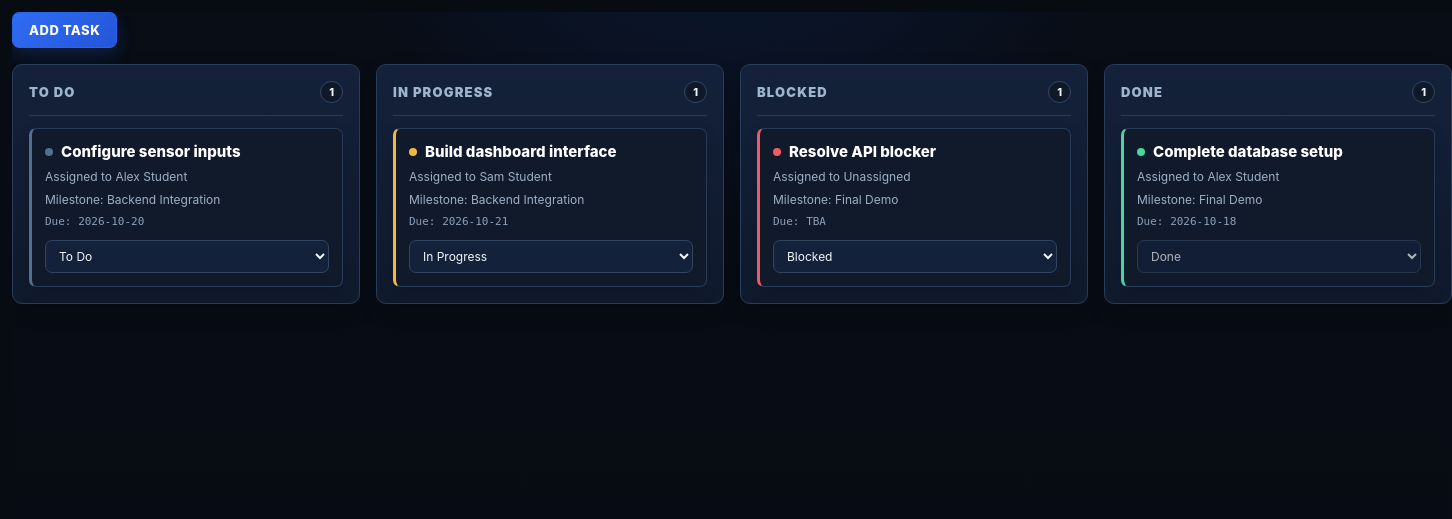
TaskBoard Integration Tests › creates a task using a real milestone and project member
Expected: the text "Configure sensor inputs" is shown, [61, 142, 240, 161]
Click the button "ADD TASK" at (65, 30), box [12, 12, 117, 48]
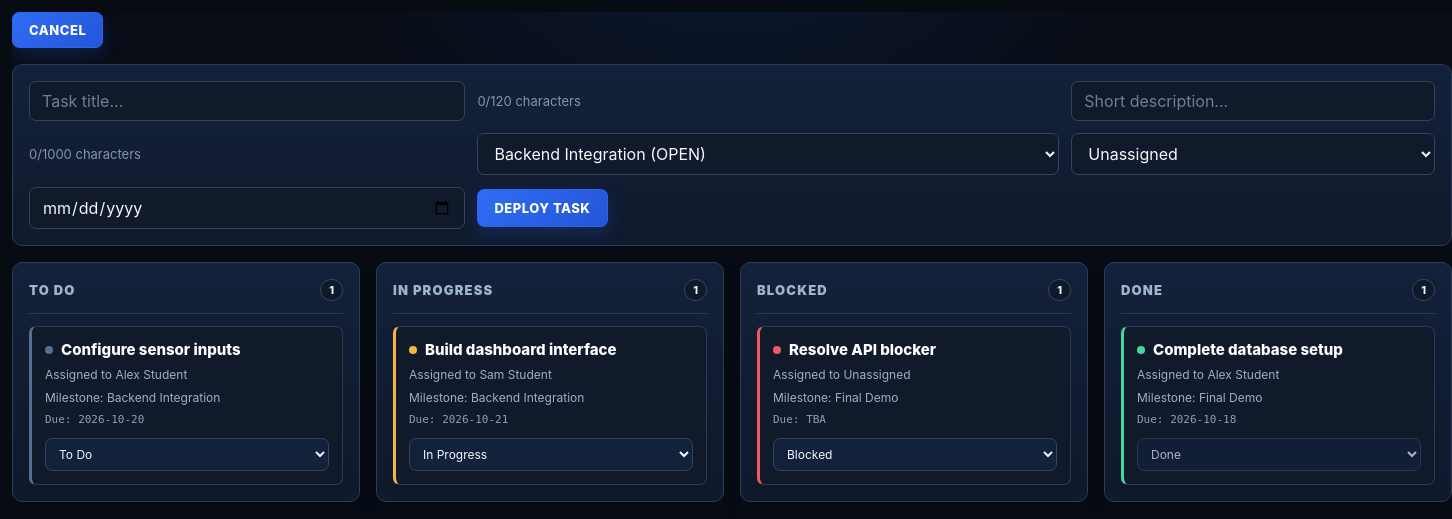
Type "Test new task" into the field labelled "Task title" at (247, 101), box [29, 81, 465, 121]
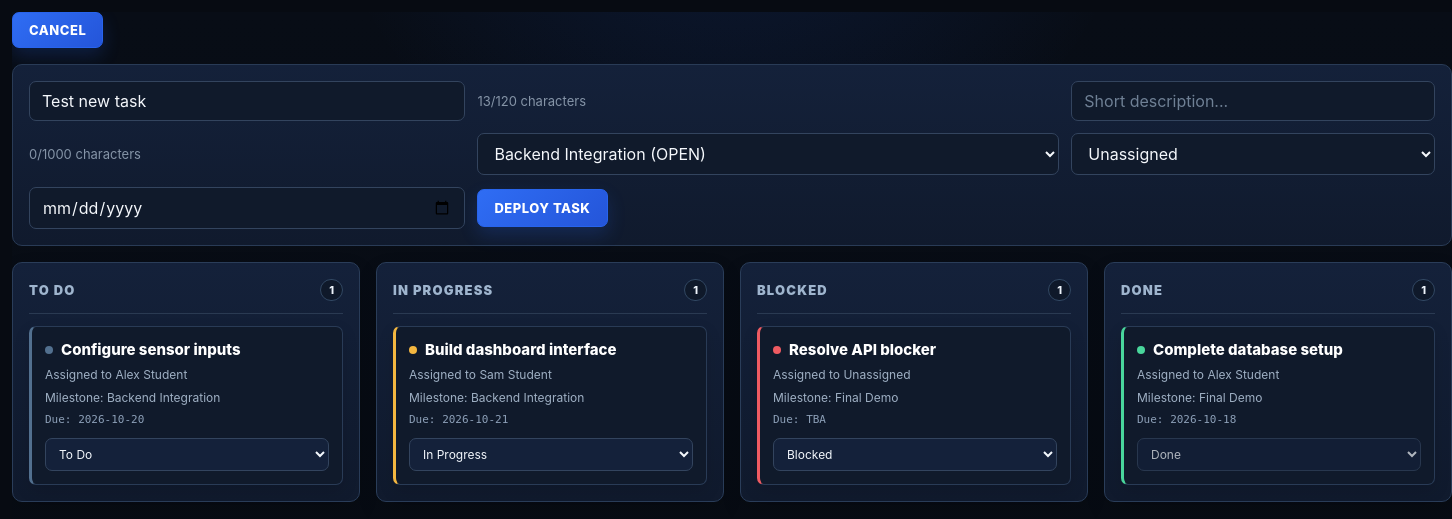
Type "Test task description" into the field named "Task description" at (1253, 101), box [1071, 81, 1435, 121]
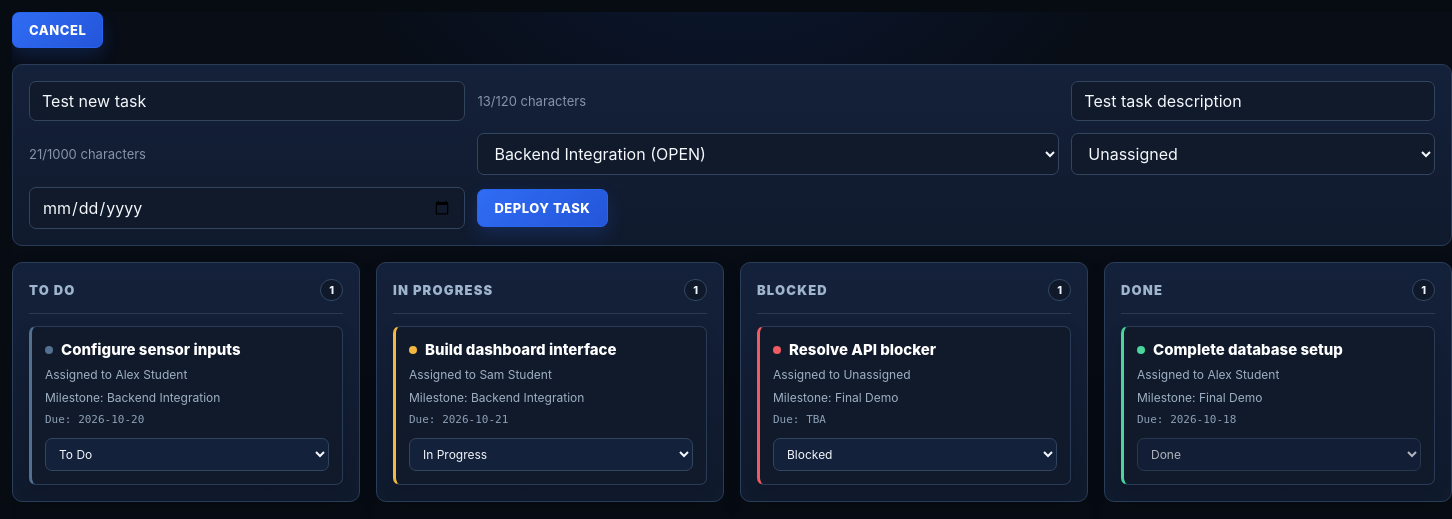
Select "Sam Student (MEMBER)" in the dropdown named "Task assignee" at (1253, 154), box [1071, 133, 1435, 175]
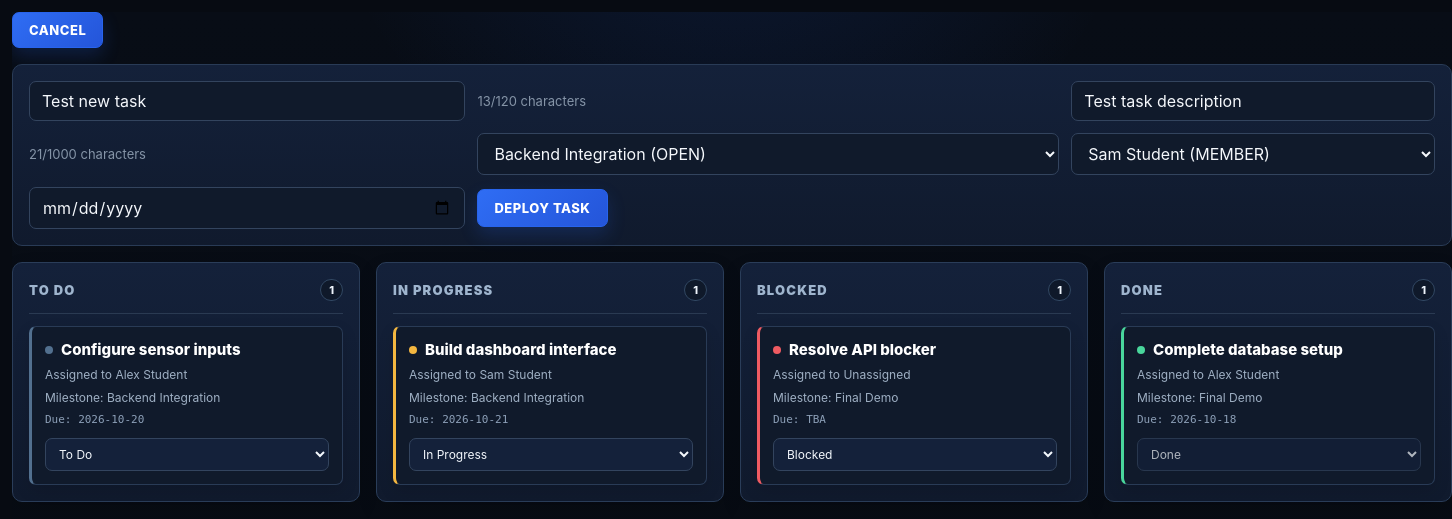
Click the button "DEPLOY TASK" at (542, 208), box [477, 189, 608, 227]
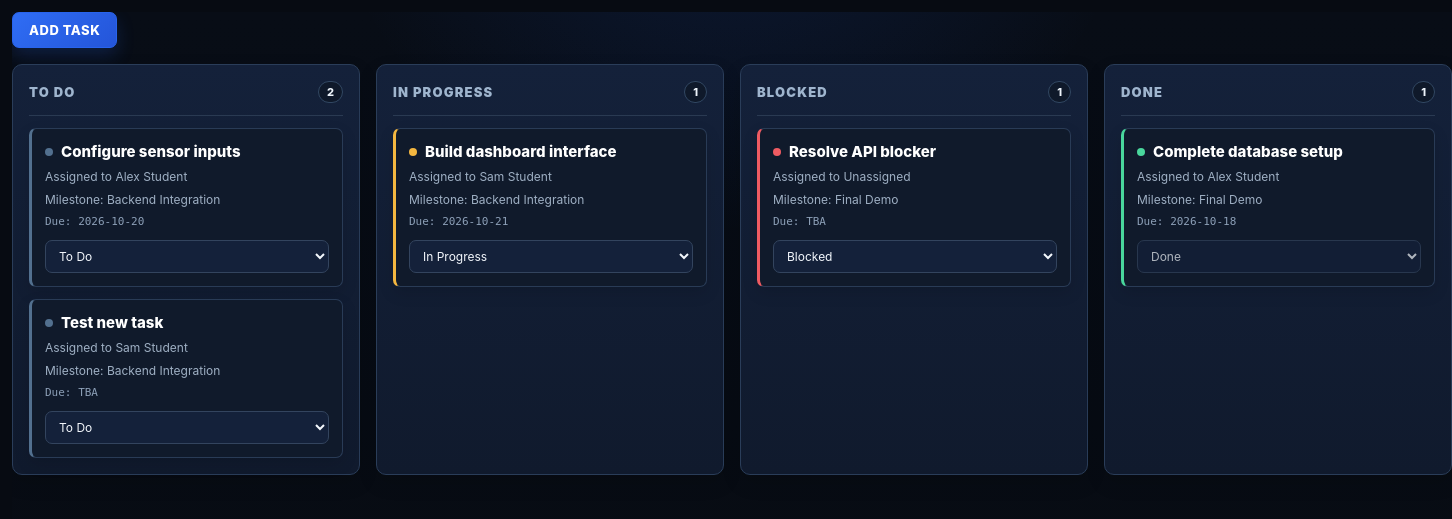
Now the text "Test new task" is shown, box [61, 313, 163, 332]
